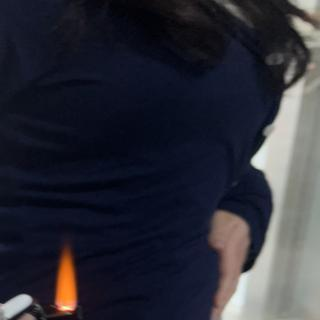fire: (52, 242, 79, 310)
